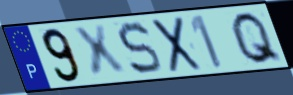1: (188, 12, 225, 71)
9: (39, 26, 83, 84)
Q: (229, 10, 285, 66)
S: (116, 20, 164, 77)
X: (70, 23, 130, 81), (150, 15, 204, 75)
